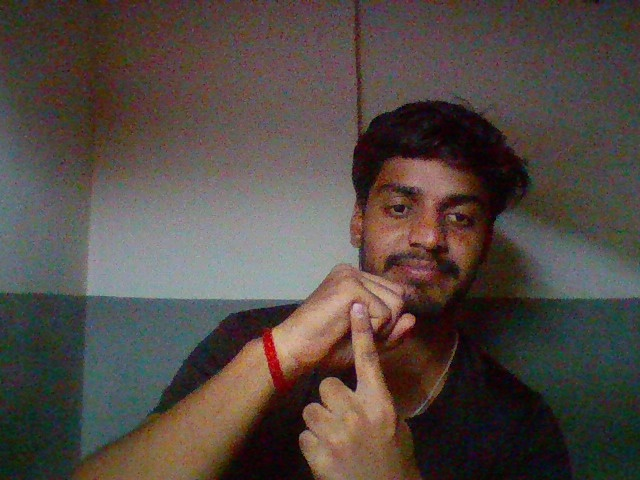Q: (265, 255, 442, 480)
